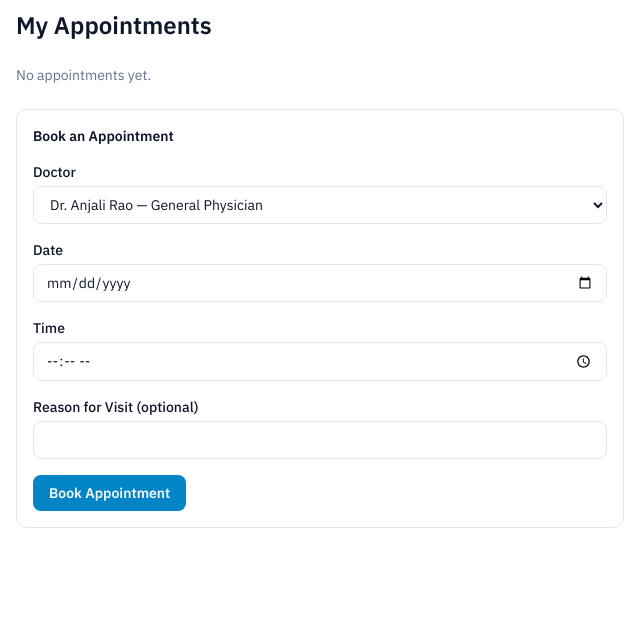
Scenario: PatientAppointmentsPage › books a new appointment
Step 1. Select "Dr. Anjali Rao — General Physician" in the dropdown labelled "Doctor" → (320, 205), box [33, 186, 607, 224]
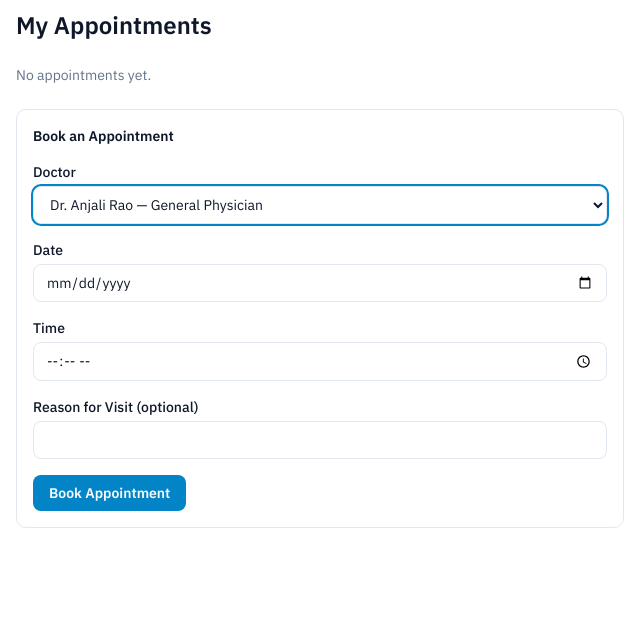
Step 2. Type "2026-08-21" into the date field labelled "Date" → (320, 283), box [33, 264, 607, 302]
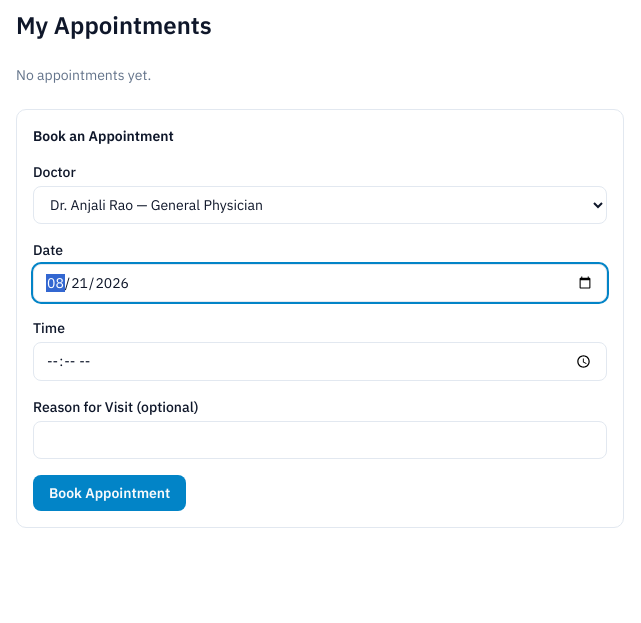
Step 3. Type "11:00" into the time field labelled "Time" → (320, 361), box [33, 342, 607, 381]
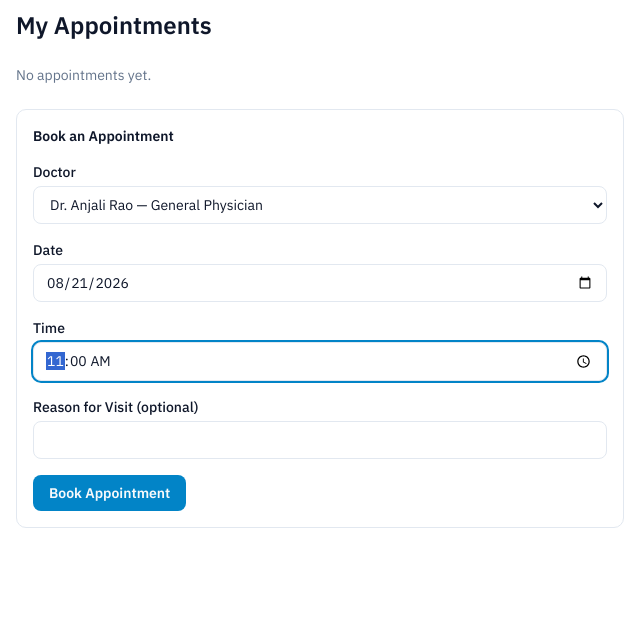
Step 4. Click the button "Book Appointment" → (110, 493), box [33, 475, 186, 511]
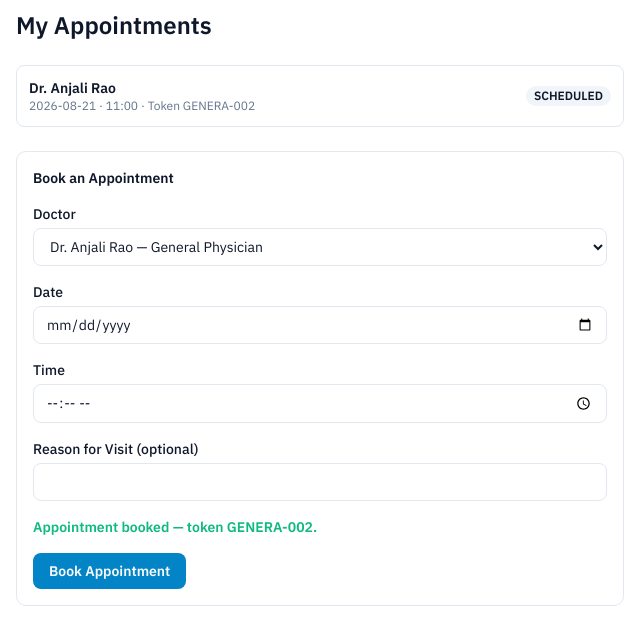
Result: the text "Appointment booked — token GENERA-002." is shown at [33, 518, 317, 536]
